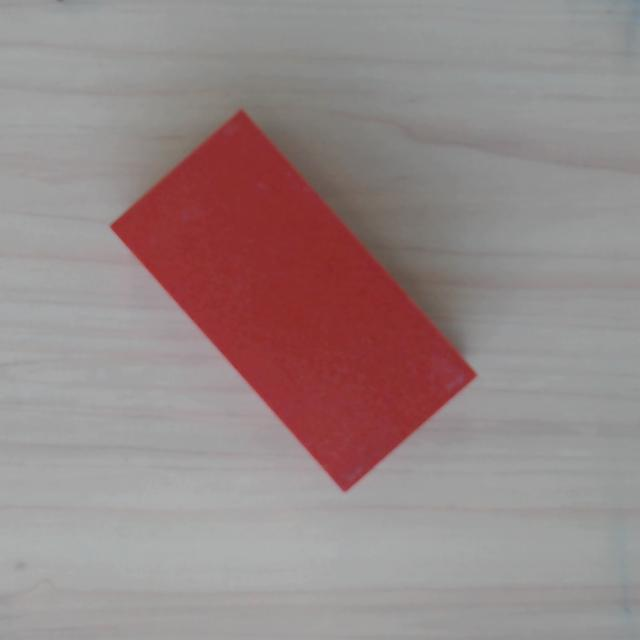Balok-Merah-1005025: (109, 109, 478, 492)
